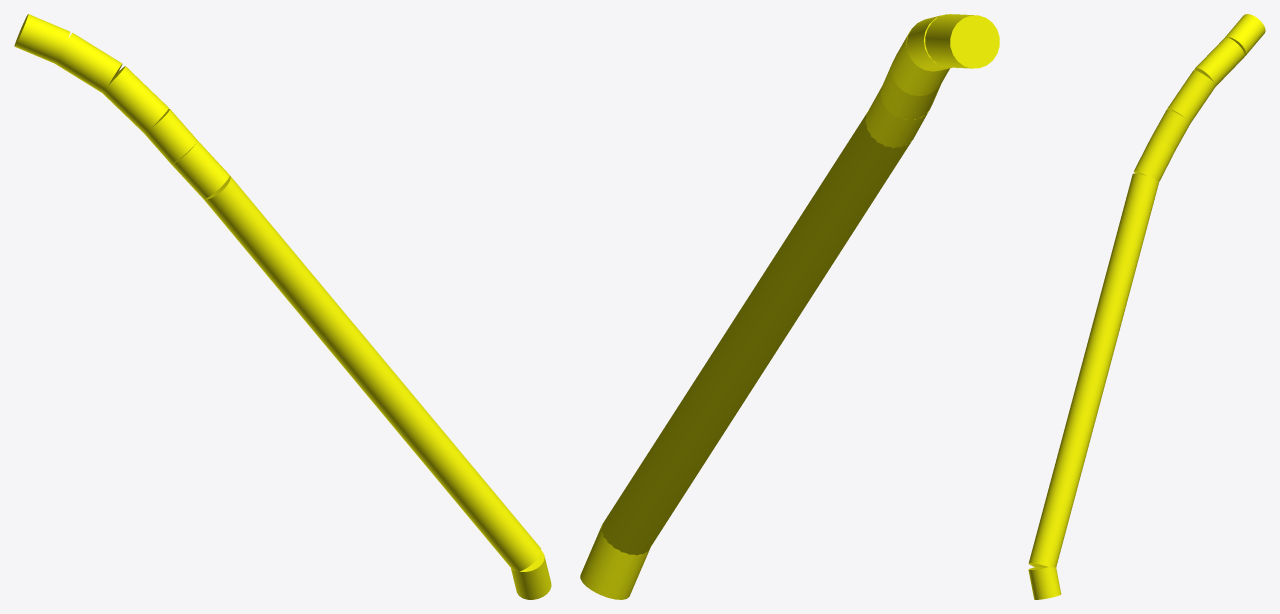
3 renders of one model, left to right at view 1: azimuth 30°, elevation 25°; view 2: azimuth 150°, elevation 25°; view 3: azimuth 270°, elevation 25°, orthographic. The views are drawn at different scales.
Parts seen in each view (by area): view 1: Cylinder(Clone) (×7); view 2: Cylinder(Clone) (×7); view 3: Cylinder(Clone) (×7).
Boxes of the visible parts, x1,y1,x2,y2 form: Cylinder(Clone) (×7): (14,14,551,599); Cylinder(Clone) (×7): (580,14,999,599); Cylinder(Clone) (×7): (1028,14,1265,599).
Size of the model in its own units: 0.1306 by 0.1768 by 0.0854.
